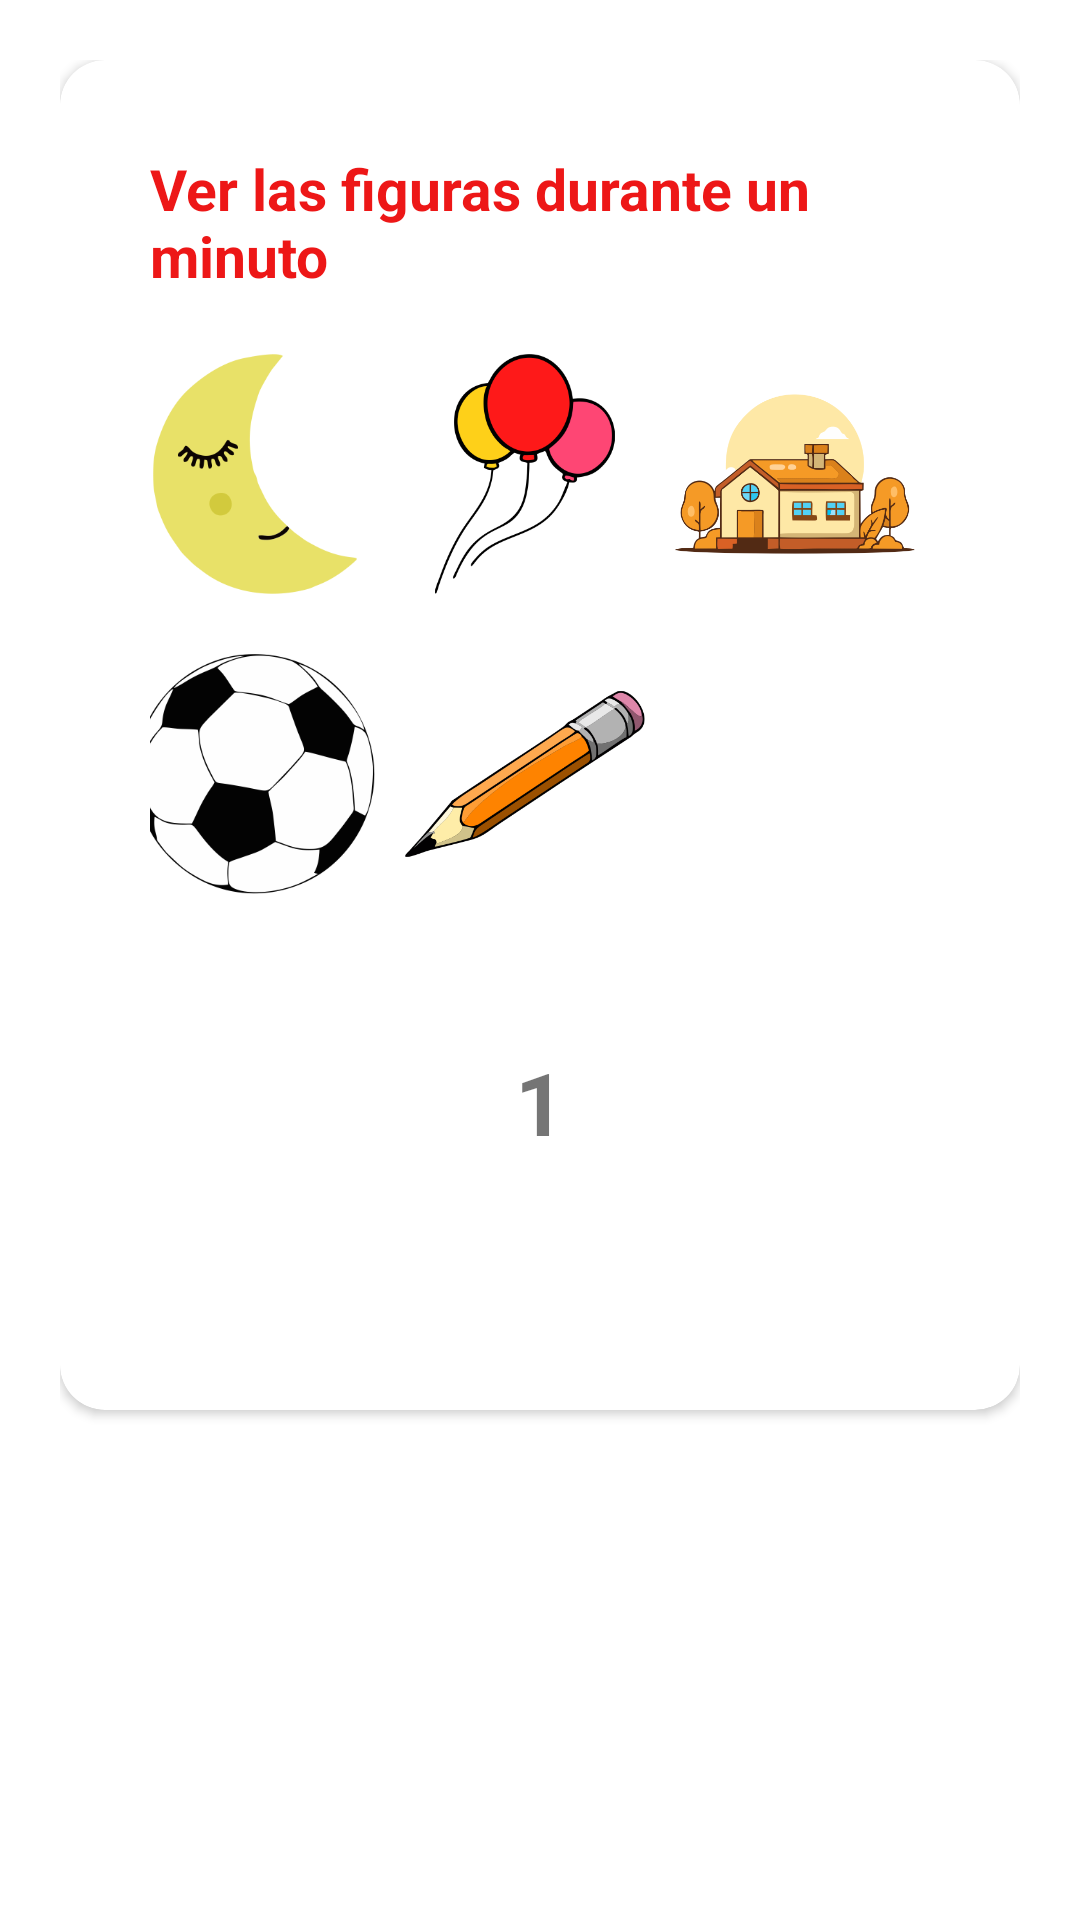

Locate icon controls on the screen. Image size 1080x1920, boxes as (x1, y1, x2, y2).
casa: (675, 394, 915, 554)
globos: (435, 354, 615, 594)
lapiz: (405, 691, 645, 857)
luna: (153, 354, 357, 594)
pelota: (150, 654, 375, 894)
